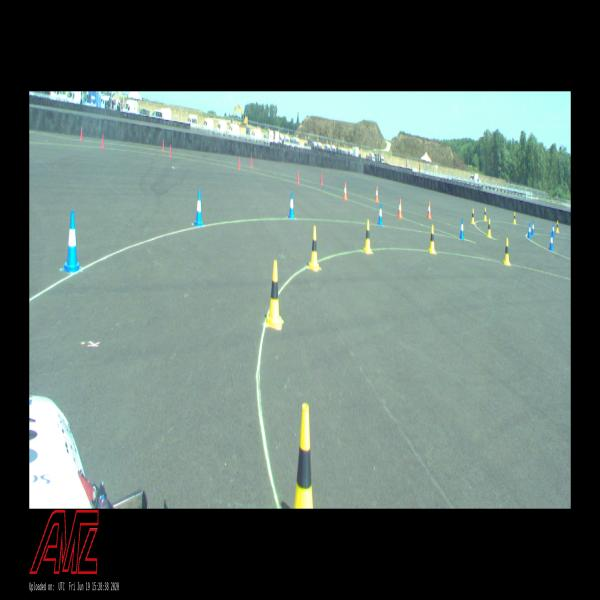blue_cone: (62, 210, 80, 271), (194, 190, 203, 227), (288, 192, 294, 218), (377, 202, 383, 226), (549, 232, 554, 251), (460, 218, 464, 239), (528, 222, 532, 239), (531, 220, 535, 235), (551, 223, 555, 237)
orange_cone: (398, 199, 402, 218), (343, 183, 347, 200), (427, 202, 431, 218), (375, 186, 378, 202)
unknown_cone: (296, 171, 300, 184), (80, 128, 83, 140), (250, 157, 253, 168), (320, 173, 323, 184), (162, 140, 165, 150), (102, 134, 104, 148), (238, 157, 240, 170), (170, 144, 172, 157)
yellow_cone: (293, 403, 313, 508), (266, 260, 284, 330), (309, 226, 320, 270), (364, 220, 372, 253), (428, 224, 436, 254), (503, 238, 510, 265), (487, 219, 492, 238), (471, 209, 475, 223), (483, 208, 487, 221), (556, 220, 559, 233), (513, 212, 516, 224)
